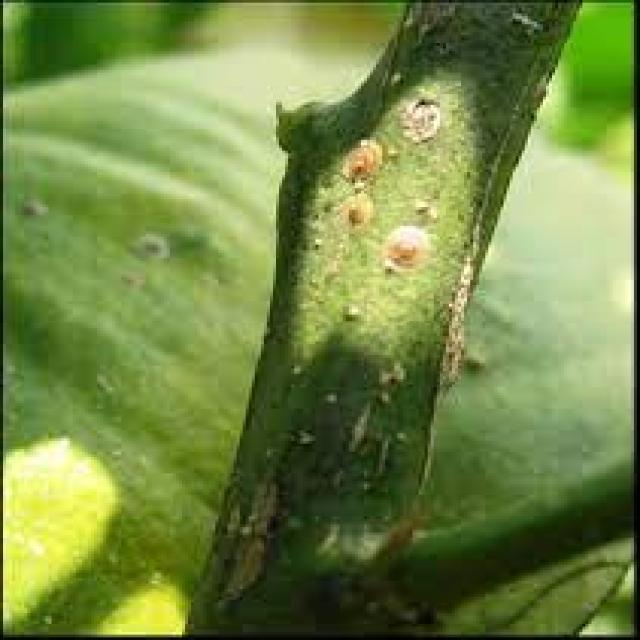scale_insect: (373, 215, 428, 274), (337, 132, 385, 186), (394, 94, 443, 143), (127, 223, 173, 261), (331, 185, 373, 226), (9, 188, 49, 218)
